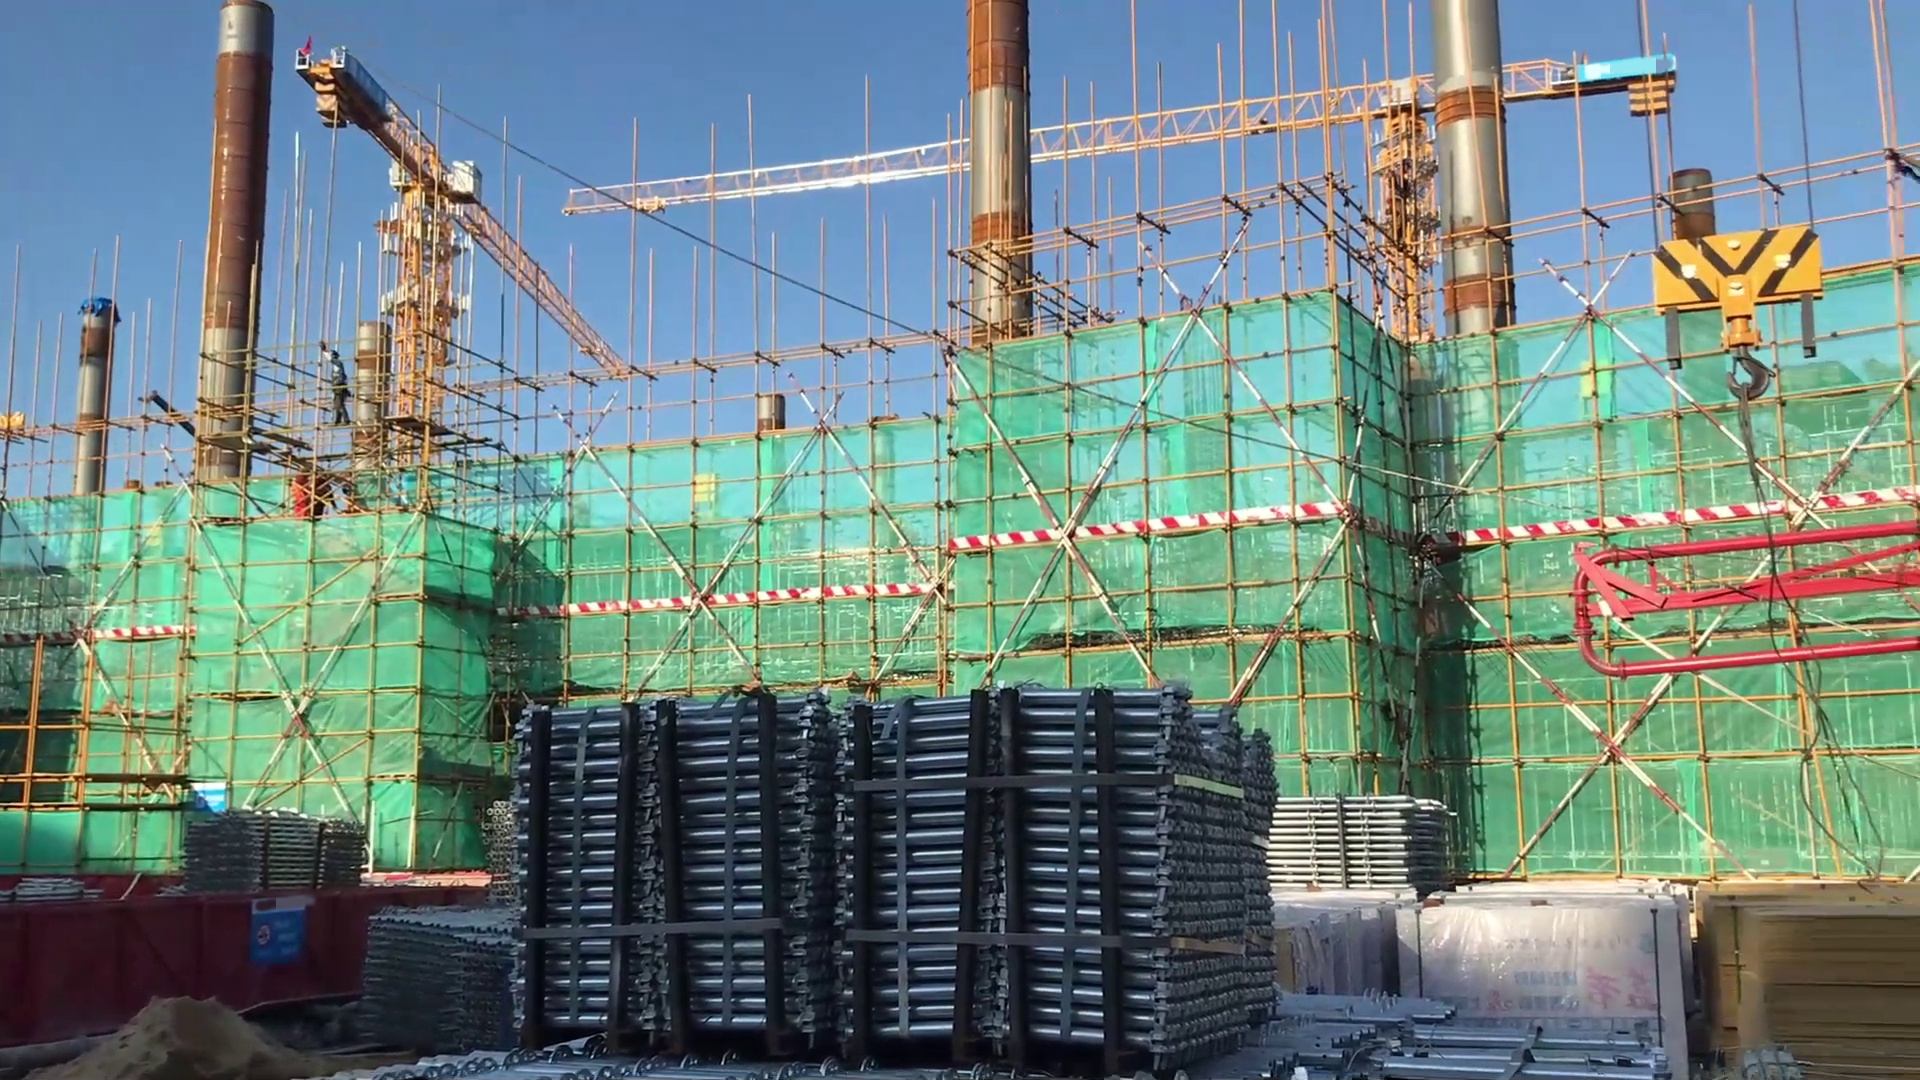board: (1688, 888, 1920, 1070)
fence: (2, 895, 358, 1021)
hook: (1629, 214, 1854, 435)
person: (322, 338, 352, 442)
scaffold: (526, 682, 1252, 1051), (1270, 977, 1643, 1080), (355, 903, 527, 1045), (1266, 787, 1459, 896), (191, 803, 361, 887), (469, 796, 523, 896)
slogan: (241, 887, 330, 976)
